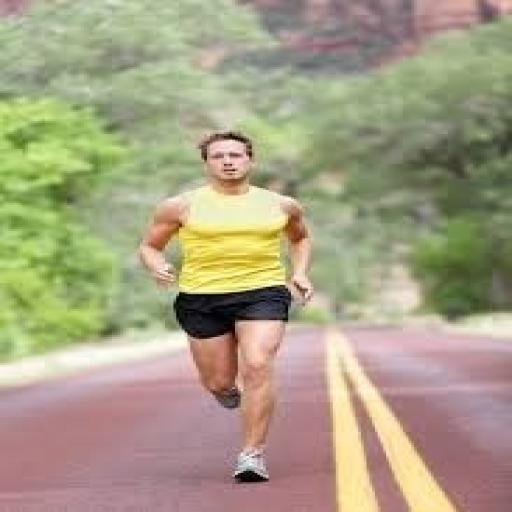running: (134, 129, 319, 484)
